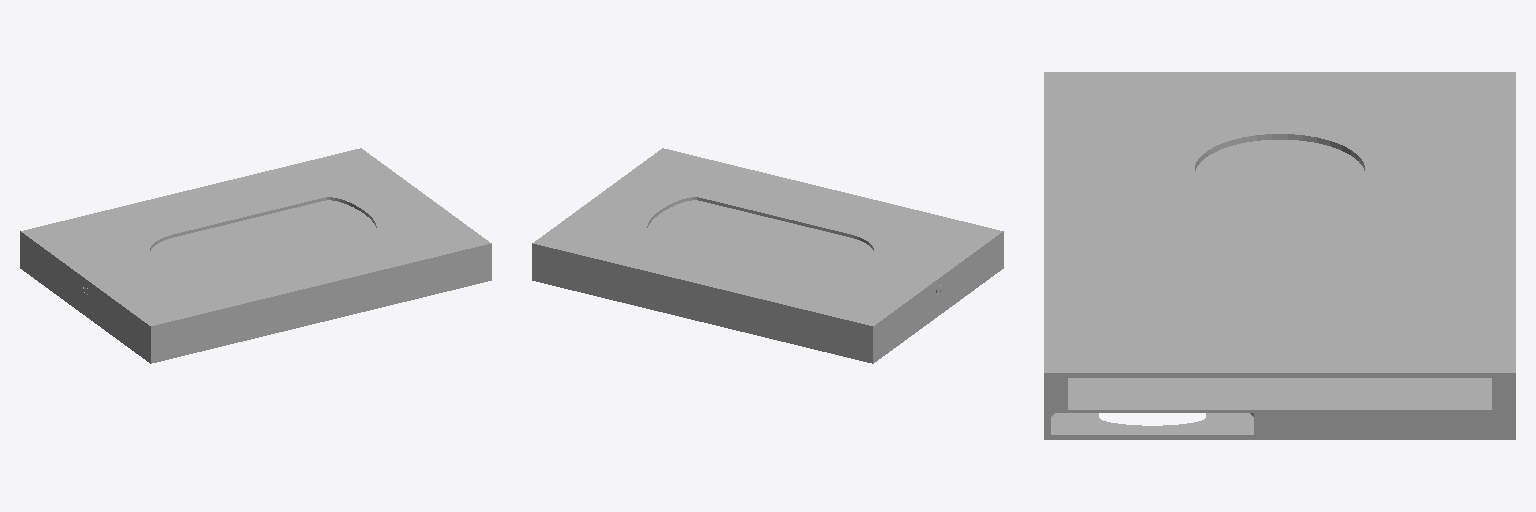
URDF robot description (root):
<?xml version='1.0' encoding='utf-8'?>
<robot name="root">
  <link name="link_001">
    <visual>
      <origin xyz="0 0 0" rpy="0 0 0" />
      <geometry>
        <mesh filename="99da944a6d5b329b08f7b1e81962fe620074f341bb92a1f097d4ff2751e173da_scale_000.stl" scale="1.0000E+00 1.0000E+00 1.0000E+00" />
      </geometry>
      <material name="">
        <color rgba="7.50E-01 7.50E-01 7.50E-01 1" />
      </material>
    </visual>
    <collision>
      <origin xyz="0 0 0" rpy="0 0 0" />
      <geometry>
        <mesh filename="99da944a6d5b329b08f7b1e81962fe620074f341bb92a1f097d4ff2751e173da_scale_000.stl" scale="1.0000E+00 1.0000E+00 1.0000E+00" />
      </geometry>
    </collision>
  </link>
</robot>

--- Facts derived from the render (not from the file) ---
3 views of the same robot in one strip: view 1: azimuth 30°, elevation 25°; view 2: azimuth 150°, elevation 25°; view 3: azimuth 270°, elevation 25° (orthographic).
Robot: root — 1 links, 0 joints (none); root link link_001; default pose: every joint at zero.
Links seen in each view (by area): view 1: link_001; view 2: link_001; view 3: link_001.
Link boxes in pixels (<box>): link_001: <box>20,148,491,363</box>; link_001: <box>532,148,1003,363</box>; link_001: <box>1044,72,1515,439</box>.
Size in the robot's own frame: 0.12 by 0.0794 by 0.0126 metres.
1 mesh visuals loaded from 1 distinct referenced files (1 binary STL).
